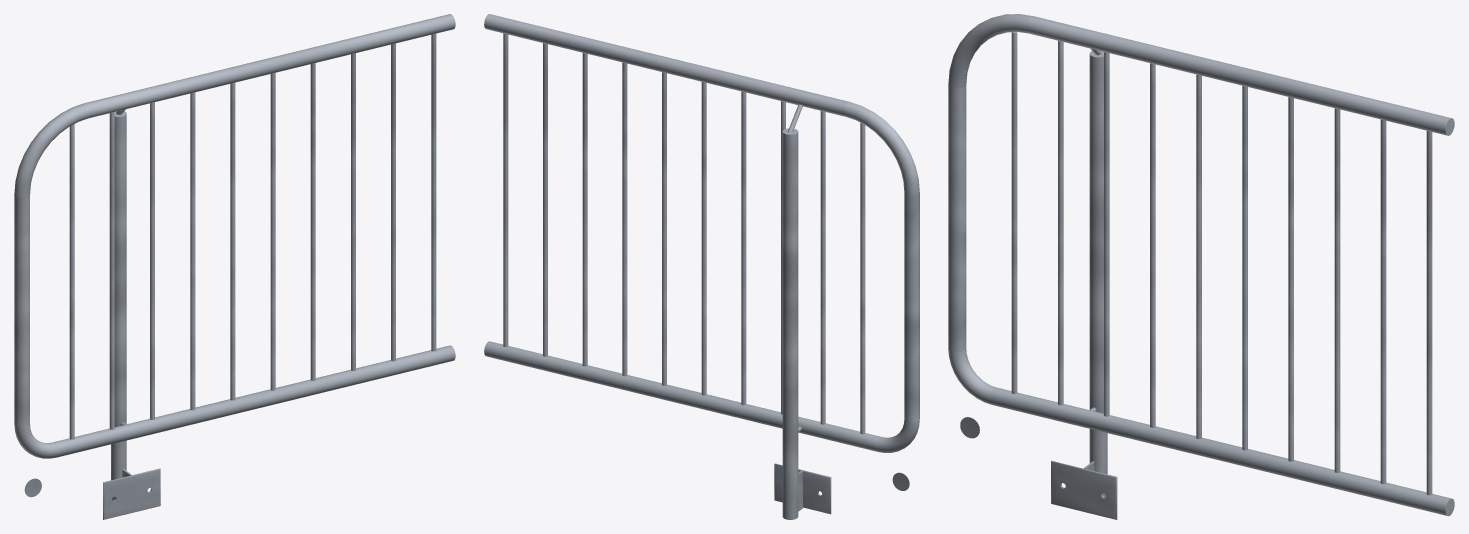
File: gelaender-ende-rechts.gltf
The picture shows the model from 3 angles, left to right: view 1: azimuth 30°, elevation 25°; view 2: azimuth 150°, elevation 25°; view 3: azimuth 330°, elevation 25°; orthographic projection. The views are drawn at different scales.
Visible parts, largest first — view 1: SK0001_Geländer-Ende_rechts.001; view 2: SK0001_Geländer-Ende_rechts.001; view 3: SK0001_Geländer-Ende_rechts.001.
Boxes of the visible parts, <box> form: SK0001_Geländer-Ende_rechts.001: <box>14,14,455,519</box>; SK0001_Geländer-Ende_rechts.001: <box>484,14,919,519</box>; SK0001_Geländer-Ende_rechts.001: <box>948,14,1454,519</box>.
Size of the model in its own units: 1.22 by 1.12 by 0.102.
1 material, 1 textured.
